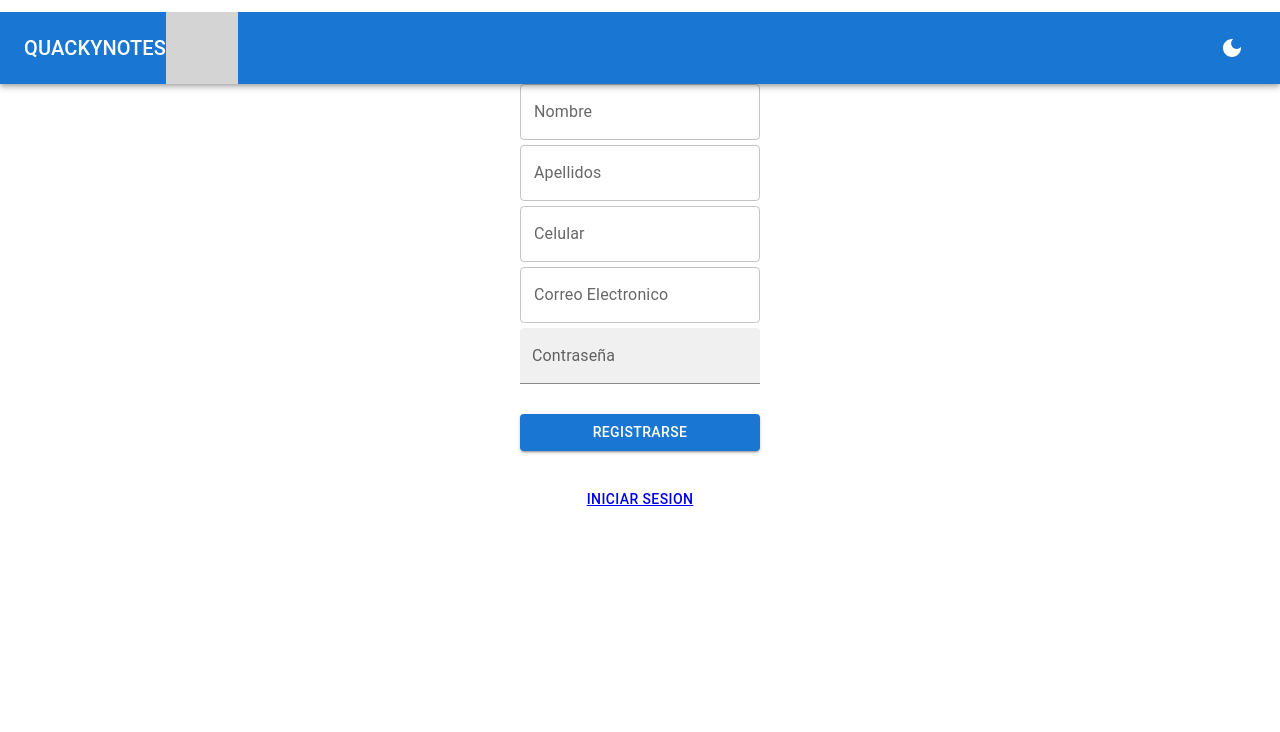
Test: Register component › should register successfully with valid input
Type "John" into the field labelled "Nombre".
click(640, 112); type("John")  # box [520,84,760,140]
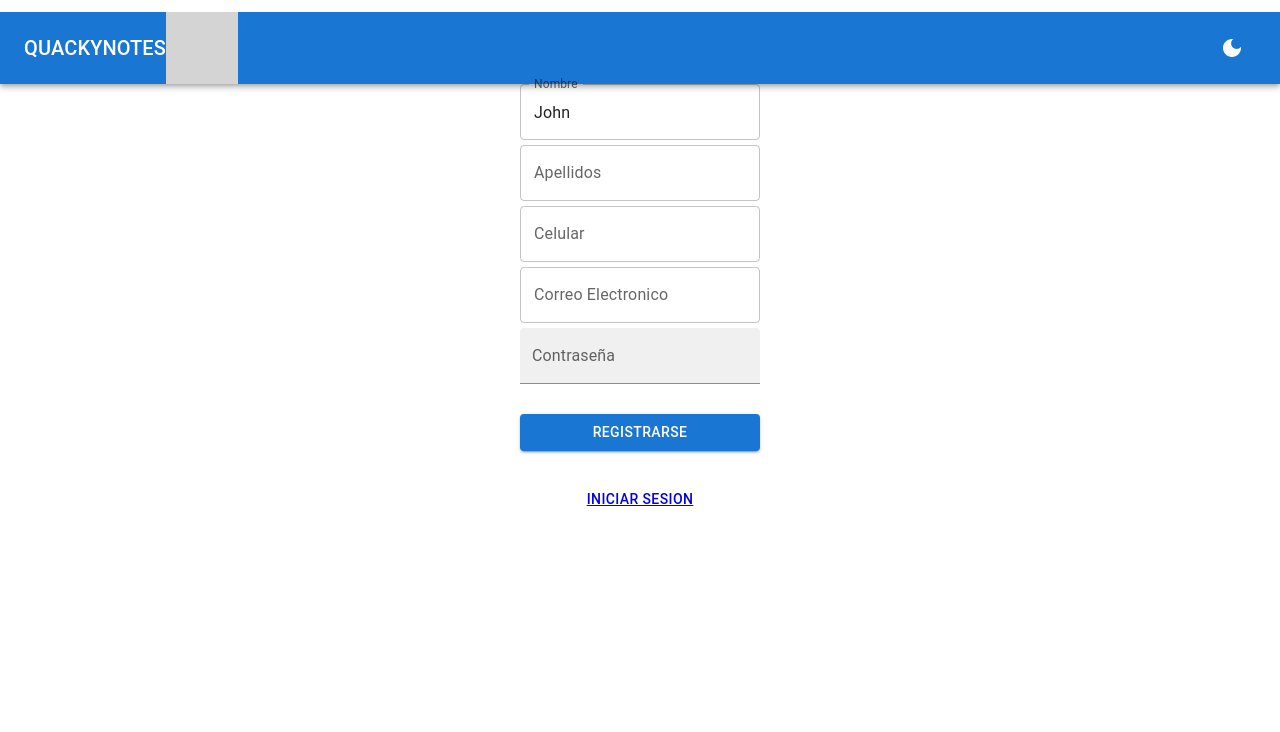
Type "Doe" into the field labelled "Apellidos".
click(640, 173); type("Doe")  # box [520,145,760,201]
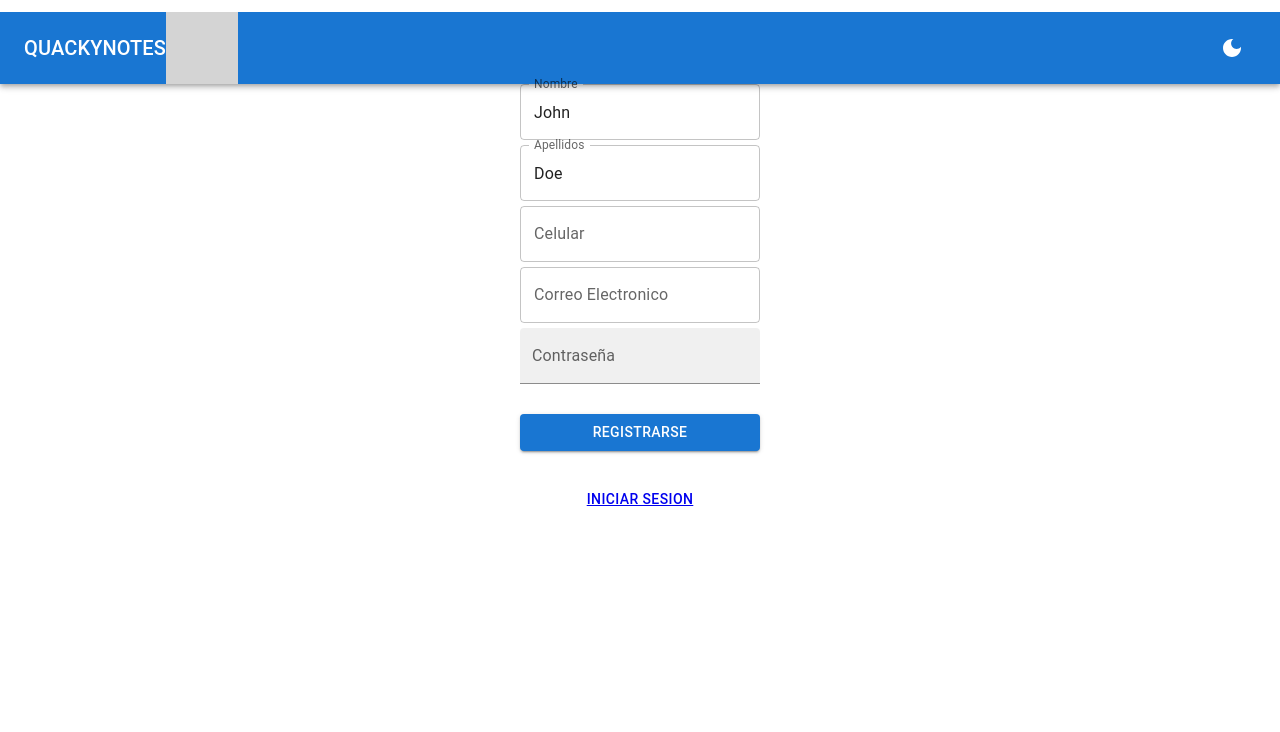
Type "1234567890" into the field labelled "Celular".
click(640, 234); type("1234567890")  # box [520,206,760,262]
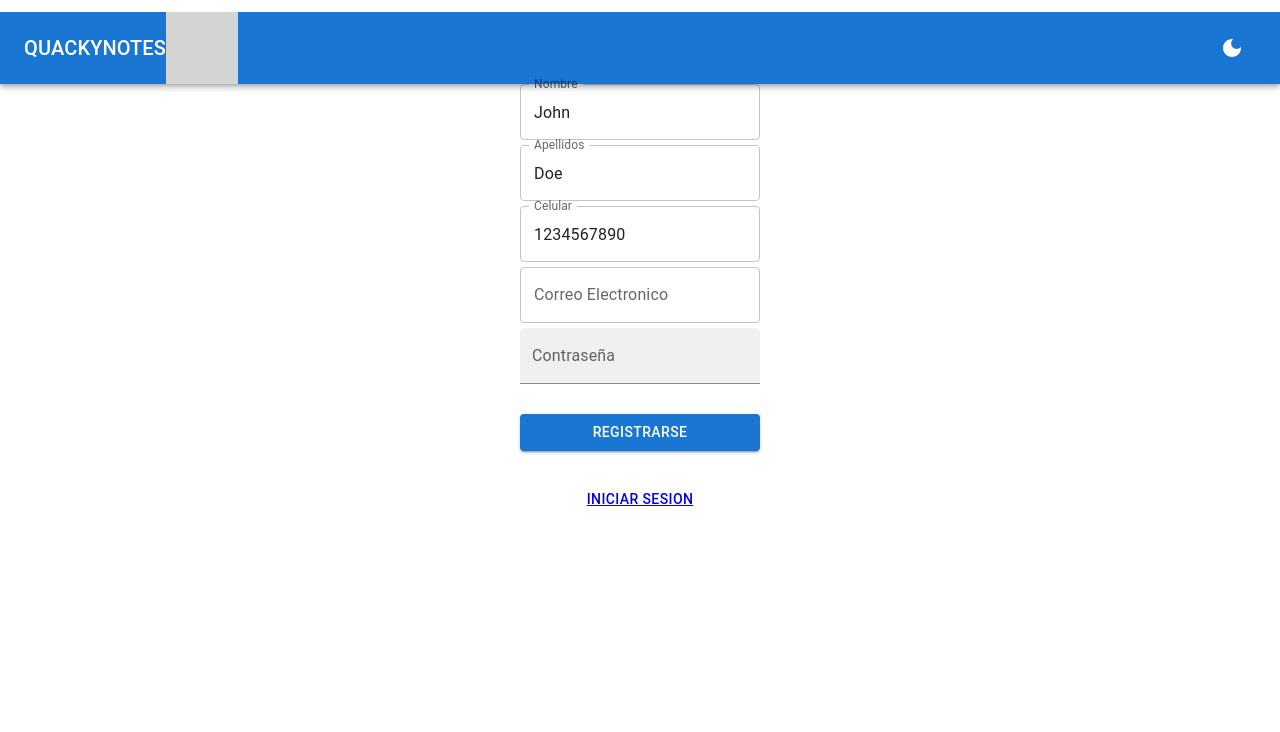
Type "email@example.com" into the field labelled "Correo Electronico".
click(640, 295); type("email@example.com")  # box [520,267,760,323]
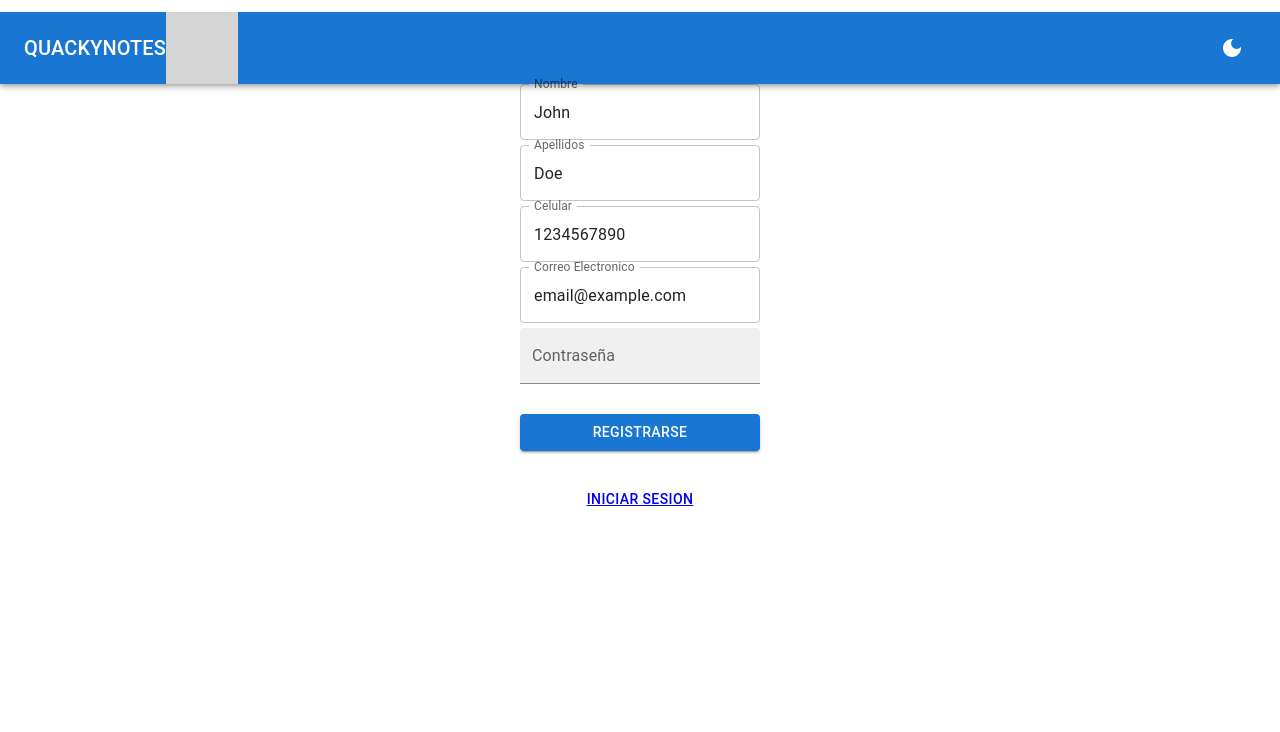
Type "Password123!" into the password field labelled "Contraseña".
click(640, 356); type("Password123!")  # box [520,328,760,384]
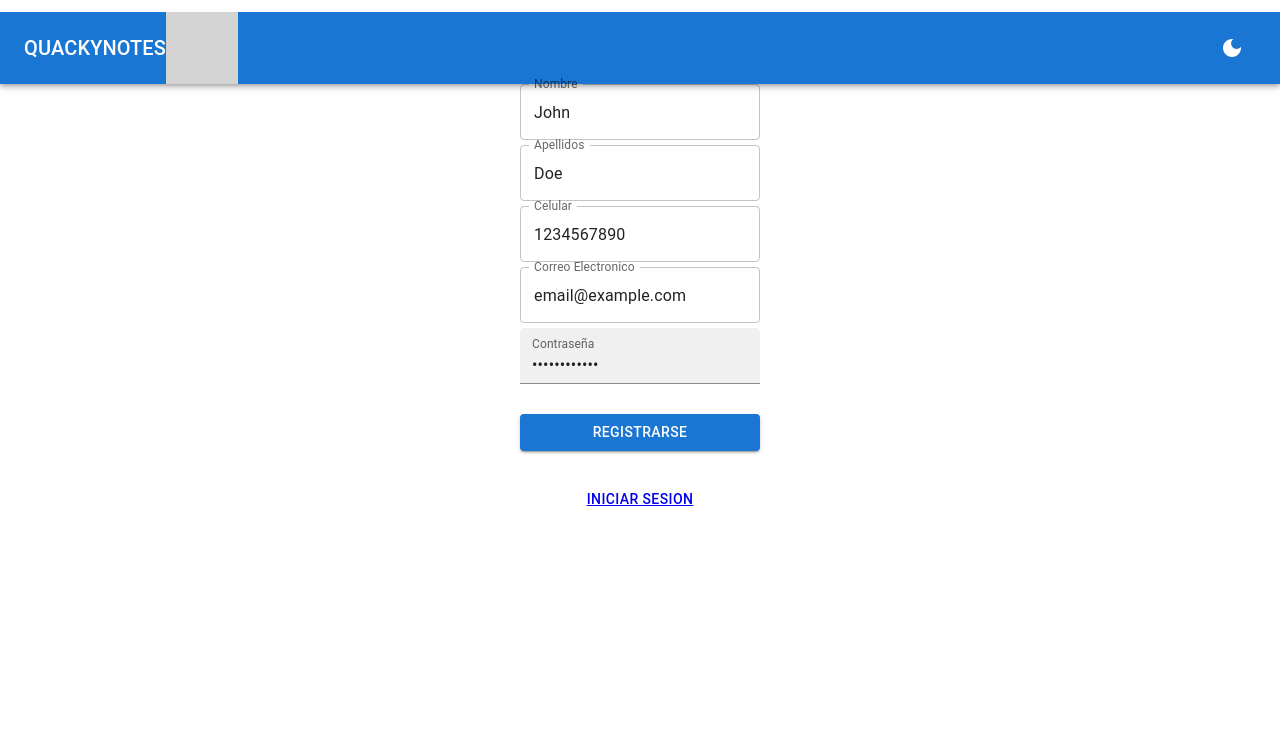
Click the button "REGISTRARSE".
click(640, 432)  # box [520,414,760,450]
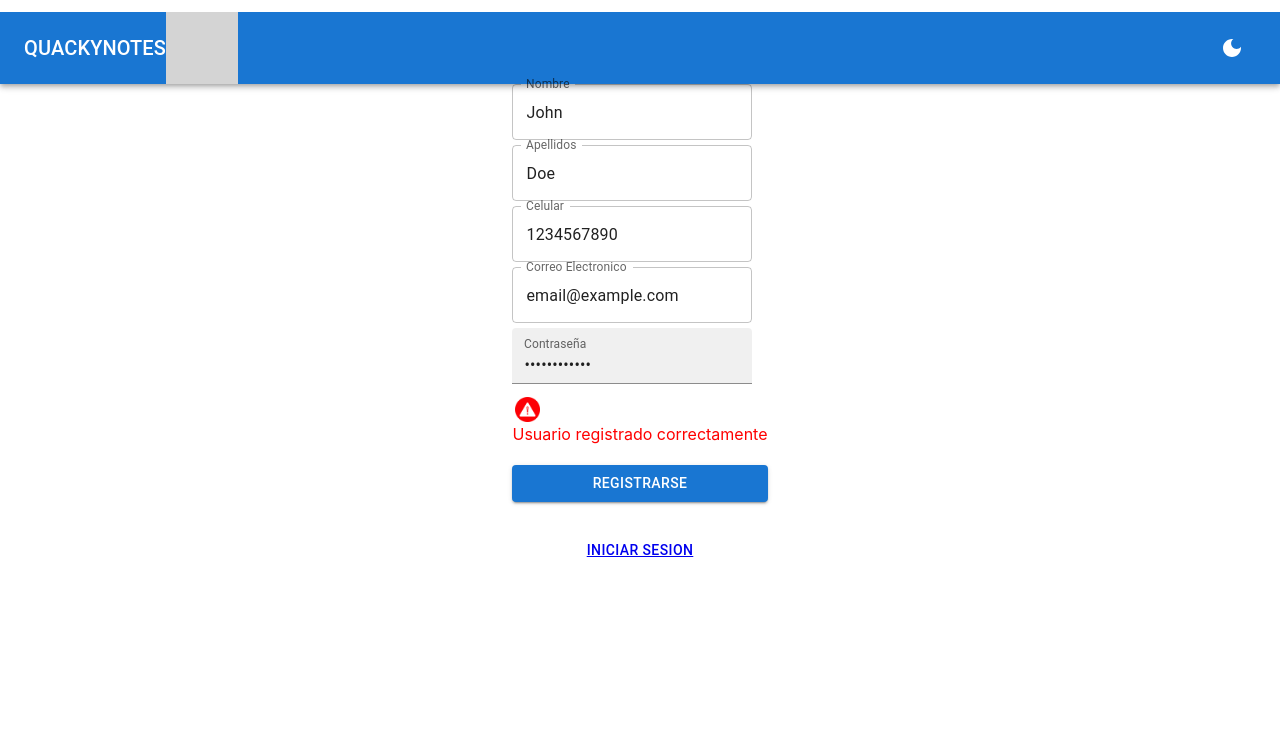
Now the text "Usuario registrado correctamente" is shown, box [512,424,768,444]
